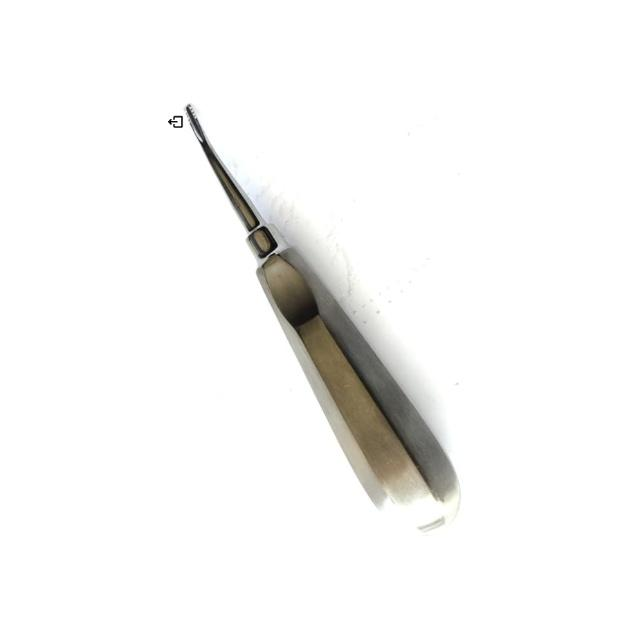botador: (187, 106, 464, 542)
